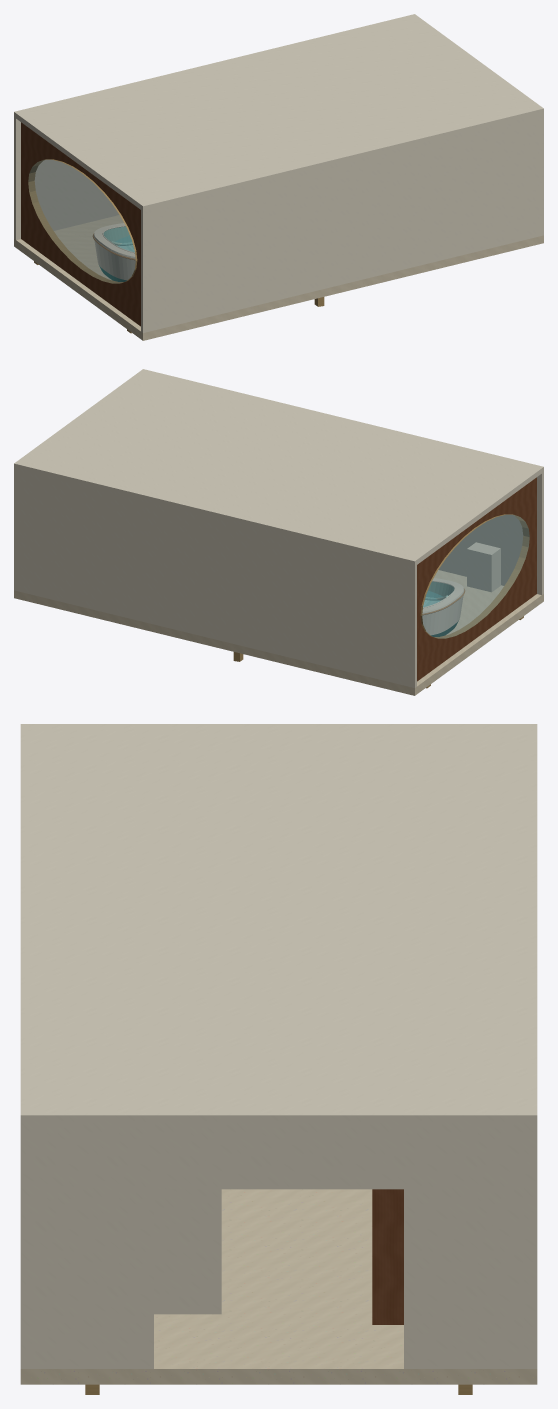
The model's file is NightGardenD15Specialty_464_r002.glb.
3 views of the same model, one above another, from view 1: azimuth 30°, elevation 25°; view 2: azimuth 150°, elevation 25°; view 3: azimuth 270°, elevation 25° (orthographic). The views are drawn at different scales.
Visible parts, largest first — view 1: NG464_RuntimeBatch_001, NG464_OvalAtriumGlass, NG464_RoomFloor, NG464_RuntimeBatch_002, NG464_ReservedRestSupport__Hollow continuous basin shell wit, NG464_RuntimeBatch_004; view 2: NG464_RuntimeBatch_001, NG464_OvalAtriumGlass, NG464_RoomFloor, NG464_RuntimeBatch_002, NG464_ReservedRestSupport__Hollow continuous basin shell wit, NG464_RuntimeBatch_004; view 3: NG464_RuntimeBatch_001, NG464_RoomFloor, NG464_RuntimeBatch_002.
Part boxes in pixels (left/top/right/bottom): NG464_RuntimeBatch_001: left=14, top=14, right=543, bottom=332; NG464_OvalAtriumGlass: left=28, top=160, right=135, bottom=283; NG464_RoomFloor: left=14, top=215, right=543, bottom=340; NG464_RuntimeBatch_002: left=21, top=122, right=140, bottom=326; NG464_ReservedRestSupport__Hollow continuous basin shell wit: left=93, top=223, right=135, bottom=281; NG464_RuntimeBatch_004: left=28, top=159, right=324, bottom=333; NG464_RuntimeBatch_001: left=14, top=369, right=543, bottom=687; NG464_OvalAtriumGlass: left=422, top=515, right=529, bottom=638; NG464_RoomFloor: left=14, top=570, right=543, bottom=695; NG464_RuntimeBatch_002: left=417, top=477, right=536, bottom=681; NG464_ReservedRestSupport__Hollow continuous basin shell wit: left=422, top=578, right=464, bottom=636; NG464_RuntimeBatch_004: left=233, top=514, right=529, bottom=688; NG464_RuntimeBatch_001: left=20, top=724, right=537, bottom=1368; NG464_RoomFloor: left=20, top=1189, right=537, bottom=1384; NG464_RuntimeBatch_002: left=372, top=1189, right=403, bottom=1324.
Bounding box in the file's own units: 12.9 × 4.91 × 7.2.
Materials: 61 (43 with a texture image).
